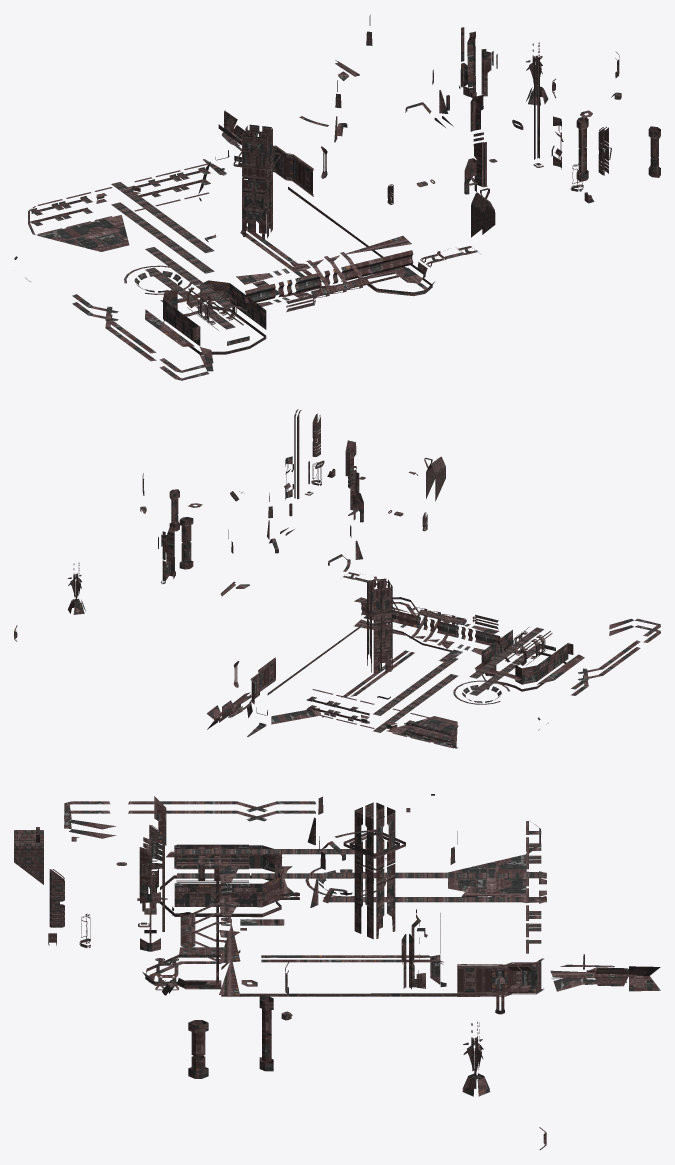
3 views of the same model, one above another, from view 1: azimuth 30°, elevation 25°; view 2: azimuth 150°, elevation 25°; view 3: azimuth 270°, elevation 25° (orthographic). The views are drawn at different scales.
Parts seen in each view (by area): view 1: _gltfNode_18.001; view 2: _gltfNode_18.001; view 3: _gltfNode_18.001.
Part boxes in pixels (x1,y1,x2,y2): _gltfNode_18.001: (14,14,660,380); _gltfNode_18.001: (14,409,660,748); _gltfNode_18.001: (14,794,660,1149).
Size of the model in its own units: 8.35 by 3.02 by 6.75.
Materials: 1 (1 with a texture image).
